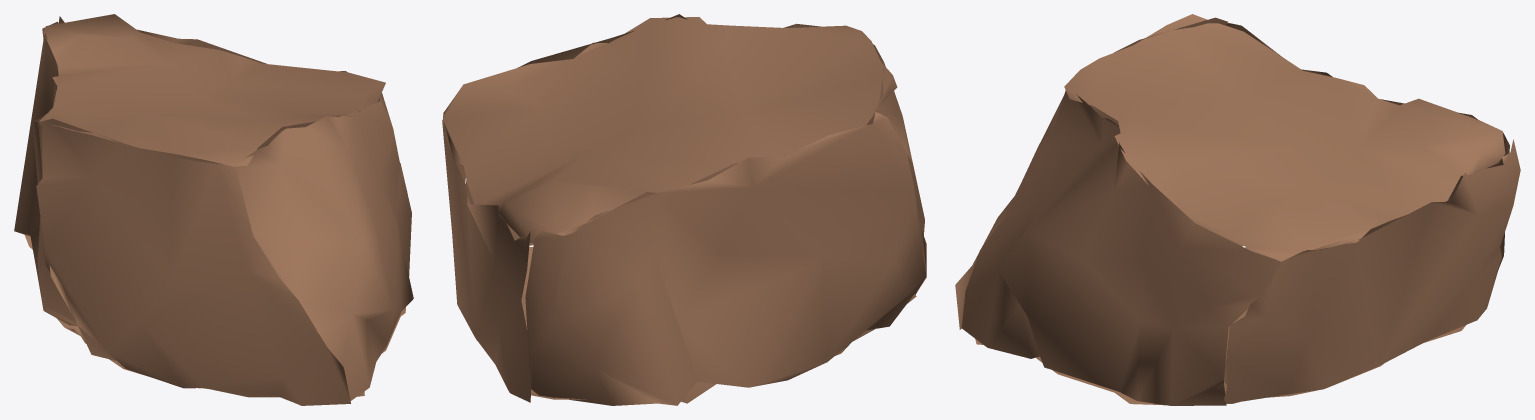
Rendered from mars-stone-lod1.glb.
The picture shows the model from 3 angles, left to right: view 1: azimuth 30°, elevation 25°; view 2: azimuth 150°, elevation 25°; view 3: azimuth 270°, elevation 25°; orthographic projection. The views are drawn at different scales.
Parts seen in each view (by area): view 1: mars-stone.001; view 2: mars-stone.001; view 3: mars-stone.001.
Part boxes in pixels (x1=…): mars-stone.001: x1=14, y1=14, x2=413, y2=405; mars-stone.001: x1=442, y1=14, x2=926, y2=405; mars-stone.001: x1=955, y1=14, x2=1520, y2=405.
Bounding box in the file's own units: 2.65 × 1.6 × 3.38.
